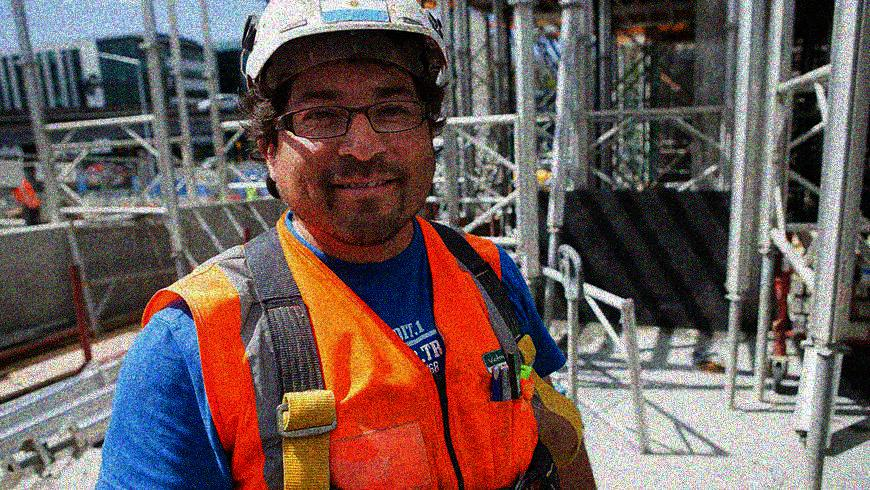helmet: (233, 1, 451, 238)
